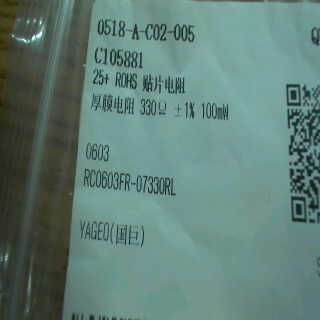330R: (139, 95, 168, 121)
